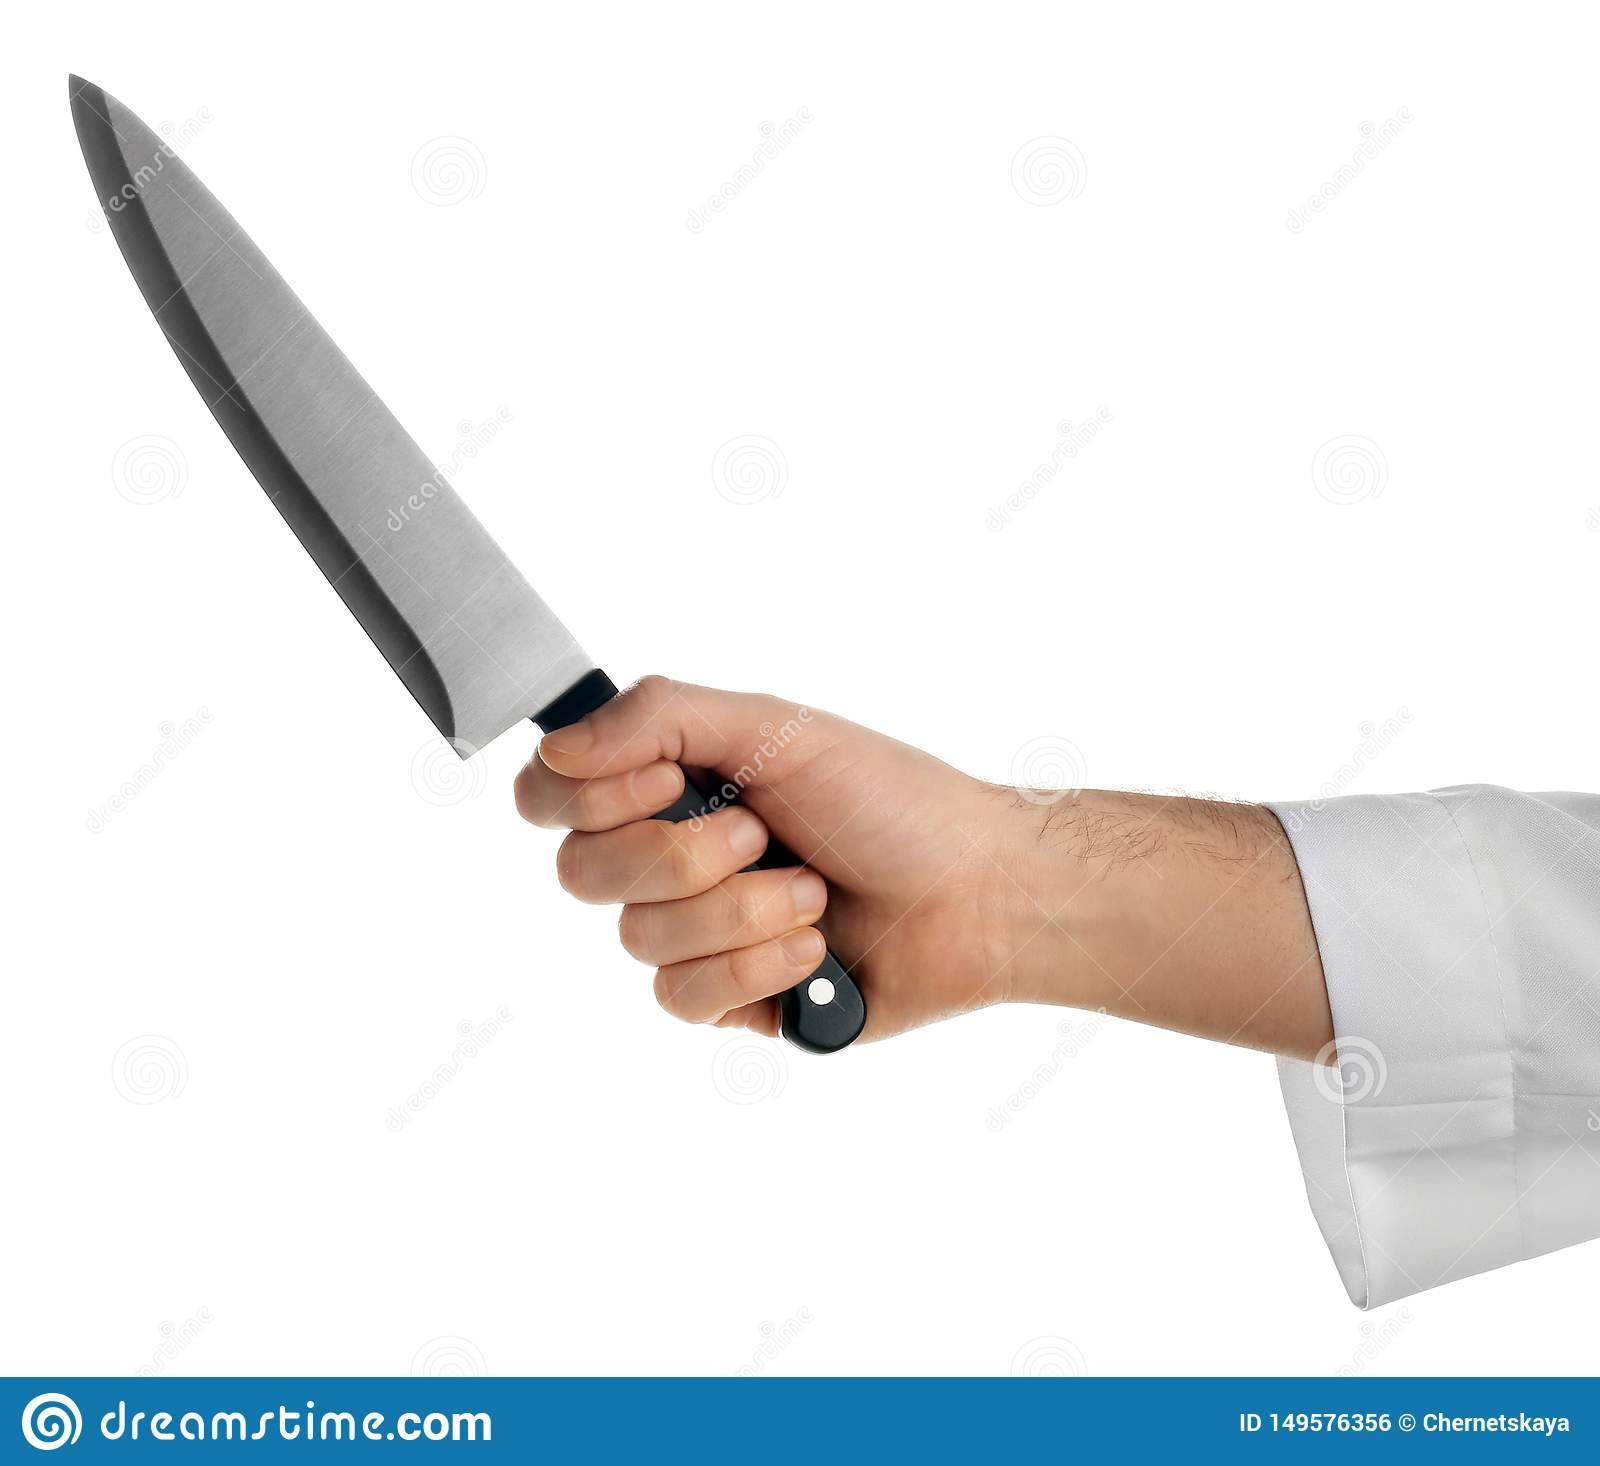knife: (66, 71, 870, 1054)
